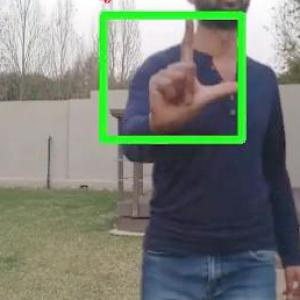land_hand: (144, 13, 241, 129)
